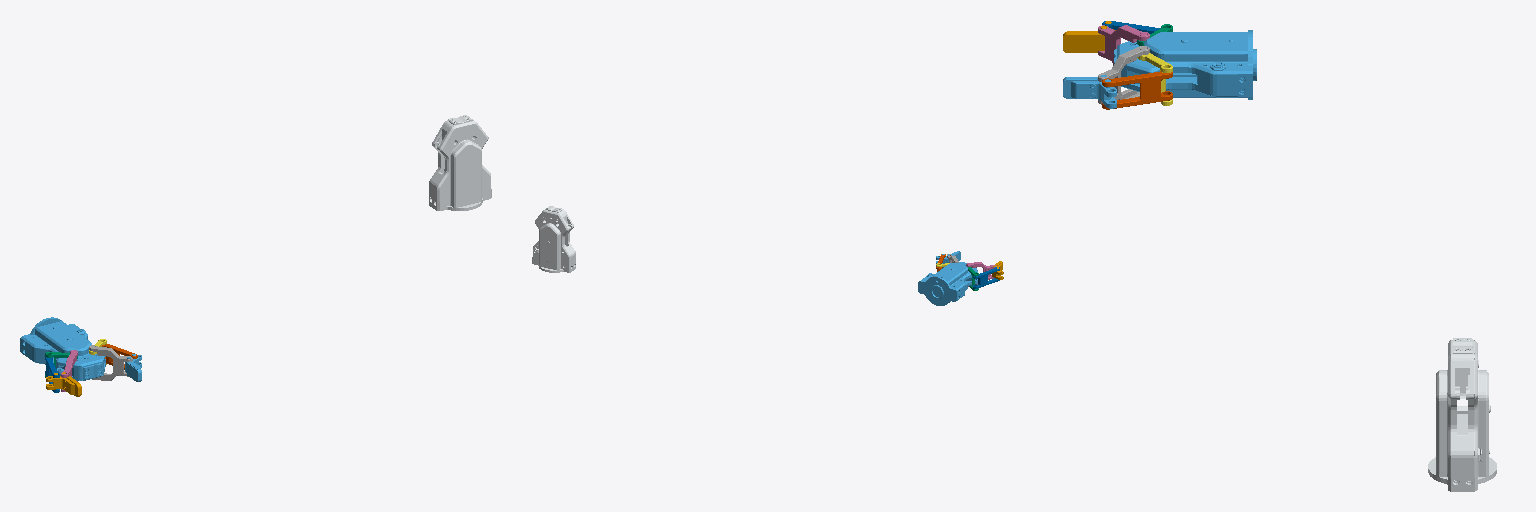
URDF robot description (fr5_ag95):
<?xml version="1.0" encoding="utf-8"?>
<robot name="fr5_ag95">
  <link name="base_link">
    <inertial>
      <origin xyz="-0.00031896 -0.00029673 0.042463" rpy="0 0 0" />
      <mass value="1.6185" />
      <inertia ixx="0.0030836" ixy="1.5354E-05" ixz="-1.9315E-05" iyy="0.0030825" iyz="-1.7918E-05" izz="0.0045209" />
    </inertial>
    <visual>
      <origin xyz="0 0 0" rpy="0 0 0" />
      <geometry>
        <mesh filename="package://dcp_description/meshes/robot/fr5/base_link.STL" />
      </geometry>
      <material name="">
        <color rgba="0.89804 0.91765 0.92941 1" />
      </material>
    </visual>
    <collision>
      <origin xyz="0 0 0" rpy="0 0 0" />
      <geometry>
        <mesh filename="package://dcp_description/meshes/robot/fr5/base_link.STL" />
      </geometry>
    </collision>
  </link>
  <joint name="j1" type="revolute">
    <origin xyz="0 0 0" rpy="0 0 0" />
    <parent link="base_link" />
    <child link="shoulder_link" />
    <axis xyz="0 0 1" />
    <limit lower="-3.0543" upper="3.0543" effort="150" velocity="3.15" />
  </joint>
  <link name="shoulder_link">
    <inertial>
      <origin xyz="5.0029E-07 -0.0040922 0.14629" rpy="0 0 0" />
      <mass value="4.3771" />
      <inertia ixx="0.010731" ixy="-8.0587E-09" ixz="-3.6773E-08" iyy="0.010408" iyz="0.00012853" izz="0.0081793" />
    </inertial>
    <visual>
      <origin xyz="0 0 0" rpy="0 0 0" />
      <geometry>
        <mesh filename="package://dcp_description/meshes/robot/fr5/shoulder_link.STL" />
      </geometry>
      <material name="">
        <color rgba="0.89804 0.91765 0.92941 1" />
      </material>
    </visual>
    <collision>
      <origin xyz="0 0 0" rpy="0 0 0" />
      <geometry>
        <mesh filename="package://dcp_description/meshes/robot/fr5/shoulder_link.STL" />
      </geometry>
    </collision>
  </link>
  <joint name="j2" type="revolute">
    <origin xyz="0 0 0.152" rpy="1.5708 0 0" />
    <parent link="shoulder_link" />
    <child link="upperarm_link" />
    <axis xyz="0 0 1" />
    <limit lower="-4.6251" upper="1.4835" effort="150" velocity="3.15" />
  </joint>
  <link name="upperarm_link">
    <inertial>
      <origin xyz="-0.2125 -5.7643E-09 0.1346" rpy="0 0 0" />
      <mass value="14.458" />
      <inertia ixx="0.028392" ixy="-1.337E-07" ixz="-3.9895E-09" iyy="0.4559" iyz="4.214E-08" izz="0.44974" />
    </inertial>
    <visual>
      <origin xyz="0 0 0" rpy="0 0 0" />
      <geometry>
        <mesh filename="package://dcp_description/meshes/robot/fr5/upperarm_link.STL" />
      </geometry>
      <material name="">
        <color rgba="0.89804 0.91765 0.92941 1" />
      </material>
    </visual>
    <collision>
      <origin xyz="0 0 0" rpy="0 0 0" />
      <geometry>
        <mesh filename="package://dcp_description/meshes/robot/fr5/upperarm_link.STL" />
      </geometry>
    </collision>
  </link>
  <joint name="j3" type="revolute">
    <origin xyz="-0.425 0 0" rpy="0 0 0" />
    <parent link="upperarm_link" />
    <child link="forearm_link" />
    <axis xyz="0 0 1" />
    <limit lower="-2.8274" upper="2.8274" effort="150" velocity="3.15" />
  </joint>
  <link name="forearm_link">
    <inertial>
      <origin xyz="-0.18793 -8.4503E-07 0.0066357" rpy="0 0 0" />
      <mass value="7.6737" />
      <inertia ixx="0.0085096" ixy="2.1613E-06" ixz="-0.0068678" iyy="0.16971" iyz="3.7086E-08" izz="0.16854" />
    </inertial>
    <visual>
      <origin xyz="0 0 0" rpy="0 0 0" />
      <geometry>
        <mesh filename="package://dcp_description/meshes/robot/fr5/forearm_link.STL" />
      </geometry>
      <material name="">
        <color rgba="0.89804 0.91765 0.92941 1" />
      </material>
    </visual>
    <collision>
      <origin xyz="0 0 0" rpy="0 0 0" />
      <geometry>
        <mesh filename="package://dcp_description/meshes/robot/fr5/forearm_link.STL" />
      </geometry>
    </collision>
  </link>
  <joint name="j4" type="revolute">
    <origin xyz="-0.39501 0 0" rpy="0 0 0" />
    <parent  link="forearm_link" />
    <child link="wrist1_link" />
    <axis xyz="0 0 1" />
    <limit lower="-4.6251" upper="1.4835" effort="28" velocity="3.2" />
  </joint>
  <link name="wrist1_link">
    <inertial>
      <origin xyz="4.98E-07 -0.003754 0.097155" rpy="0 0 0" />
      <mass value="1.6266" />
      <inertia ixx="0.00216" ixy="4.888E-09" ixz="3.1528E-08" iyy="0.0015455" iyz="3.7678E-05" izz="0.0019902" />
    </inertial>
    <visual>
      <origin xyz="0 0 0" rpy="0 0 0" />
      <geometry>
        <mesh filename="package://dcp_description/meshes/robot/fr5/wrist1_link.STL" />
      </geometry>
      <material name="">
        <color rgba="0.89804 0.91765 0.92941 1" />
      </material>
    </visual>
    <collision>
      <origin xyz="0 0 0" rpy="0 0 0" />
      <geometry>
        <mesh filename="package://dcp_description/meshes/robot/fr5/wrist1_link.STL" />
      </geometry>
    </collision>
  </link>
  <joint name="j5" type="revolute">
    <origin xyz="0 0 0.1021" rpy="1.5708 0 0" />
    <parent link="wrist1_link" />
    <child link="wrist2_link" />
    <axis xyz="0 0 1" />
    <limit lower="-3.0543" upper="3.0543" effort="28" velocity="3.2" />
  </joint>
  <link
    name="wrist2_link">
    <inertial>
      <origin xyz="-4.5588E-07 0.0038617 0.098257" rpy="0 0 0" />
      <mass value="1.5812" />
      <inertia ixx="0.0020612" ixy="8.7064E-09" ixz="-3.4742E-08" iyy="0.0014477" iyz="-2.8534E-05" izz="0.0019573" />
    </inertial>
    <visual>
      <origin xyz="0 0 0" rpy="0 0 0" />
      <geometry>
        <mesh filename="package://dcp_description/meshes/robot/fr5/wrist2_link.STL" />
      </geometry>
      <material name="">
        <color rgba="0.89804 0.91765 0.92941 1" />
      </material>
    </visual>
    <collision>
      <origins xyz="0 0 0" rpy="0 0 0" />
      <geometry>
        <mesh filename="package://dcp_description/meshes/robot/fr5/wrist2_link.STL" />
      </geometry>
    </collision>
  </link>
  <joint name="j6" type="revolute">
    <origin xyz="0 0 0.102" rpy="-1.5708 0 0" />
    <parent link="wrist2_link" />
    <child link="wrist3_link" />
    <axis xyz="0 0 1" />
    <limit lower="-3.0543" upper="3.0543" effort="28" velocity="3.2" />
  </joint>
  <link name="wrist3_link">
    <inertial>
      <origin xyz="7.7496E-05 1.7751E-05 0.076122" rpy="0 0 0" />
      <mass value="0.52542" />
      <inertia ixx="0.00027721" ixy="-1.8677E-09" ixz="-1.188E-07" iyy="0.00027839" iyz="2.2607E-07" izz="0.00041605" />
    </inertial>
    <visual>
      <origin xyz="0 0 0" rpy="0 0 0" />
      <geometry>
        <mesh filename="package://dcp_description/meshes/robot/fr5/wrist3_link.STL" />
      </geometry>
      <material name="">
        <color rgba="0.89804 0.91765 0.92941 1" />
      </material>
    </visual>
    <collision>
      <origin xyz="0 0 0" rpy="0 0 0" />
      <geometry>
        <mesh filename="package://dcp_description/meshes/robot/fr5/wrist3_link.STL" />
      </geometry>
    </collision>
  </link>
  <joint name="wrist3-flange" type="fixed">
    <parent link="wrist3_link"/>
    <child link="flange"/>
    <origin rpy="0 -1.5707963267948966 -1.5707963267948966" xyz="0 0 0.1"/>
  </joint>
  <link name="flange"/>
  <joint name="flange-tool0" type="fixed">
    <origin rpy="1.5707963267948966 0 1.5707963267948966" xyz="0 0 0"/>
    <parent link="flange"/>
    <child link="tool0"/>
  </joint>
  <link name="tool0"/>

  <!-- Gripper -->
  <joint name="gripper_base_joint" type="fixed">
    <parent link="tool0"/>
    <child link="gripper_base_link"/>
    <origin rpy="0 0 0" xyz="0 0 0"/>
  </joint>
  <link name="gripper_base_link">
    <visual>
      <geometry>
        <mesh filename="package://dcp_description/meshes/gripper/ag95/base_link.STL"/>
      </geometry>
    </visual>
    <collision>
      <geometry>
        <mesh filename="package://dcp_description/meshes/gripper/ag95/base_link.STL"/>
      </geometry>
    </collision>
    <inertial>
      <mass value="0.83416" />
      <origin xyz="0.0 0.0 0.0" />
      <inertia ixx = "0.0013016" ixy = "-6.9374e-07" ixz = "5.9848e-07"
               iyx = "0.000000" iyy = "0.00049972" iyz = "2.0244E-07"
               izx = "0.000000" izy = "0.000000" izz = "0.001498" />
    </inertial>
  </link>
  <joint name="gripper_finger1_joint" type="revolute">
    <parent link="gripper_base_link"/>
    <child link="gripper_finger1_knuckle_link"/>
    <axis xyz="0 -1 0"/>
    <origin rpy="0.0 0.0 3.14" xyz="-0.016 0 0.10586"/>
    <limit lower="0.0" upper="0.6524" velocity="2.0" effort="1000"/>
  </joint>
  <joint name="gripper_finger2_joint" type="revolute">
    <parent link="gripper_base_link"/>
    <child link="gripper_finger2_knuckle_link"/>
    <axis xyz="0 -1 0"/>
    <origin rpy="0.0 0.0 0.0" xyz="0.016  0 0.10586 "/>
    <limit lower="-3.14" upper="3.14" velocity="100.0" effort="1000"/>
    <mimic joint="gripper_finger1_joint"/>
  </joint>
  <link name="gripper_finger1_knuckle_link">
    <visual>
      <geometry>
          <mesh filename="package://dcp_description/meshes/gripper/ag95/crank_Link.STL"/>
      </geometry>
    </visual>
    <collision>
      <geometry>
          <mesh filename="package://dcp_description/meshes/gripper/ag95/crank_Link.STL"/>
      </geometry>
    </collision>
    <inertial>
      <mass value="0.011111" />
      <origin xyz="0.0 0.0 0.0" />
      <inertia ixx = "3.88172e-06" ixy = "-2.29456e-13" ixz = "8.33e-07"
               iyx = "0.000000" iyy = "1.92174e-06" iyz = "2.04435e-13"
               izx = "0.000000" izy = "0.000000" izz = "4.32374e-06" />
    </inertial>
  </link>
  <link name="gripper_finger2_knuckle_link">
    <visual>
      <geometry>
          <mesh filename="package://dcp_description/meshes/gripper/ag95/crank_Link.STL"/>
      </geometry>
    </visual>
    <collision>
      <geometry>
          <mesh filename="package://dcp_description/meshes/gripper/ag95/crank_Link.STL"/>
      </geometry>
    </collision>
    <inertial>
      <mass value="0.011111" />
      <origin xyz="0.0 0.0 0.0" />
      <inertia ixx = "3.88172e-06" ixy = "-2.29456e-13" ixz = "8.33e-07"
               iyx = "0.000000" iyy = "1.92174e-06" iyz = "2.04435e-13"
               izx = "0.000000" izy = "0.000000" izz = "4.32374e-06" />
    </inertial>
  </link>
  <joint name="gripper_finger1_finger_joint" type="continuous">
    <parent link="gripper_finger1_knuckle_link"/>
    <child link="gripper_finger1_finger_link"/>
    <axis xyz="0 -1 0"/>
    <origin xyz="0.0292080077784 0.0 -0.0227132622407" rpy="0 0 0" />
    <limit lower="-3.14" upper="3.14" velocity="100.0" effort="0.1"/>
    <mimic joint="gripper_finger1_joint" multiplier="0.4563942" offset="0"/>
  </joint>
  <joint name="gripper_finger2_finger_joint" type="continuous">
    <parent link="gripper_finger2_knuckle_link"/>
    <child link="gripper_finger2_finger_link"/>
    <axis xyz="0 -1 0"/>
    <origin xyz="0.0292080077784 0.0 -0.0227132622407" rpy="0 0 0" />
    <limit lower="-3.14" upper="3.14" velocity="100.0" effort="0.1"/>
    <mimic joint="gripper_finger1_joint" multiplier="0.4563942" offset="0"/>
  </joint>
  <link name="gripper_finger1_finger_link">
    <visual>
      <geometry>
          <mesh filename="package://dcp_description/meshes/gripper/ag95/rod_Link.STL"/>
      </geometry>
    </visual>
    <collision>
      <geometry>
          <mesh filename="package://dcp_description/meshes/gripper/ag95/rod_Link.STL"/>
      </geometry>
    </collision>
    <inertial>
      <mass value="0.0222871" />
      <origin xyz="0.0 0.0 0.0" />
      <inertia ixx = "8.72836e-06" ixy = "7.0843e-15" ixz = "-2.18833e-06"
               iyx = "-0.000002" iyy = "7.26157e-06" iyz = "7.6579e-15"
               izx = "0.000000" izy = "0.000000" izz = "3.3425e-06" />
    </inertial>
  </link>
  <link name="gripper_finger2_finger_link">
    <visual>
        <geometry>
            <mesh filename="package://dcp_description/meshes/gripper/ag95/rod_Link.STL"/>
        </geometry>
    </visual>
    <collision>
      <geometry>
          <mesh filename="package://dcp_description/meshes/gripper/ag95/rod_Link.STL"/>
      </geometry>
    </collision>
    <inertial>
      <mass value="0.0222871" />
      <origin xyz="0.0 0.0 0.0" />
      <inertia ixx = "8.72836e-06" ixy = "7.0843e-15" ixz = "-2.18833e-06"
               iyx = "-0.000002" iyy = "7.26157e-06" iyz = "7.6579e-15"
               izx = "0.000000" izy = "0.000000" izz = "3.3425e-06" />
    </inertial>
  </link>
  <joint name="gripper_finger1_inner_knuckle_joint" type="continuous">
    <parent link="gripper_base_link"/>
    <child link="gripper_finger1_inner_knuckle_link"/>
    <axis xyz="0 -1 0"/>
    <origin rpy="0.0 0.0 3.14" xyz="-0.016 0 0.10586"/>
    <limit lower="-3.14" upper="3.14" velocity="100.0" effort="0.1"/>
    <mimic joint="gripper_finger1_joint" multiplier="1.49462955"  offset="0"/>
  </joint>
  <joint name="gripper_finger2_inner_knuckle_joint" type="continuous">
    <parent link="gripper_base_link"/>
    <child link="gripper_finger2_inner_knuckle_link"/>
    <axis xyz="0 -1 0"/>
    <origin rpy="0.0 0.0 0.0" xyz="0.016 0 0.10586"/>
    <limit lower="-3.14" upper="3.14" velocity="100.0" effort="0.1"/>
    <mimic joint="gripper_finger1_joint" multiplier="1.49462955"  offset="0"/>
  </joint>
  <link name="gripper_finger1_inner_knuckle_link">
    <visual>
      <geometry>
          <mesh filename="package://dcp_description/meshes/gripper/ag95/proximal_phalanx_Link.STL"/>
      </geometry>
    </visual>
    <collision>
      <geometry>
          <mesh filename="package://dcp_description/meshes/gripper/ag95/proximal_phalanx_Link.STL"/>
      </geometry>
    </collision>
    <inertial>
      <mass value="0.0318004" />
      <origin xyz="0.0 0.0 0.0" />
      <inertia ixx = "1.39848e-05" ixy = "-9.54763e-15" ixz = "-5.01422e-06"
               iyx = "0.000000" iyy = "1.04943e-05" iyz = "8.94585e-16"
               izx = "0.000000" izy = "0.000000" izz = "1.36183e-05" />
    </inertial>
  </link>
  <link name="gripper_finger2_inner_knuckle_link">
    <visual>
      <geometry>
          <mesh filename="package://dcp_description/meshes/gripper/ag95/proximal_phalanx_Link.STL"/>
      </geometry>
    </visual>
    <collision>
      <geometry>
          <mesh filename="package://dcp_description/meshes/gripper/ag95/proximal_phalanx_Link.STL"/>
      </geometry>
    </collision>
    <inertial>
      <mass value="0.0318004" />
      <origin xyz="0.0 0.0 0.0" />
      <inertia ixx = "1.39848e-05" ixy = "-9.54763e-15" ixz = "-5.01422e-06"
               iyx = "0.000000" iyy = "1.04943e-05" iyz = "8.94585e-16"
               izx = "0.000000" izy = "0.000000" izz = "1.36183e-05" />
    </inertial>
  </link>
  <joint name="gripper_finger1_finger_tip_joint" type="continuous">
    <parent link="gripper_finger1_inner_knuckle_link"/>
    <child link="gripper_finger1_finger_tip_link"/>
      <axis xyz="0 1 0"/>
      <origin xyz="0.0394969463769 0.0 0.0382752038125 " rpy="0.0 0.0 0.0"/>
      <limit lower="-3.14" upper="3.14" velocity="100.0" effort="0.1"/>
      <mimic joint="gripper_finger1_joint" multiplier="1.49462955"/>
  </joint>
  <joint name="gripper_finger2_finger_tip_joint" type="continuous">
    <parent link="gripper_finger2_inner_knuckle_link"/>
    <child link="gripper_finger2_finger_tip_link"/>
    <axis xyz="0 1 0"/>
    <origin rpy="0.0 0.0 0.0" xyz="0.0394969463769  0.0 0.0382752038125  "/>
    <limit lower="-3.14" upper="3.14" velocity="100.0" effort="0.1"/>
    <mimic joint="gripper_finger1_joint" multiplier="1.49462955"/>
  </joint>
  <link name="gripper_finger1_finger_tip_link">
    <visual>
      <geometry>
          <mesh filename="package://dcp_description/meshes/gripper/ag95/distal_phalanx_Link.STL"/>
      </geometry>
    </visual>
    <collision>
      <geometry>
          <mesh filename="package://dcp_description/meshes/gripper/ag95/distal_phalanx_Link.STL"/>
      </geometry>
    </collision>
    <inertial>
      <mass value="0.0124305" />
      <origin xyz="0.0 0.0 0.0" />
      <inertia ixx = "2.84217e-06" ixy = "-2.48048e-15" ixz = "8.24539e-07"
               iyx = "0.000000" iyy = "3.03961e-06" iyz = "2.16427e-13"
               izx = "0.000000" izy = "0.000000" izz = "1.11815e-06" />
    </inertial>
  </link> 
  <link name="gripper_finger2_finger_tip_link">
    <visual>
      <geometry>
          <mesh filename="package://dcp_description/meshes/gripper/ag95/distal_phalanx_Link.STL"/>
      </geometry>
    </visual>
    <collision>
      <geometry>
          <mesh filename="package://dcp_description/meshes/gripper/ag95/distal_phalanx_Link.STL"/>
      </geometry>
    </collision>
    <inertial>
      <mass value="0.0124305" />
      <origin xyz="0.0 0.0 0.0" />
      <inertia ixx = "2.84217e-06" ixy = "-2.48048e-15" ixz = "8.24539e-07"
               iyx = "0.000000" iyy = "3.03961e-06" iyz = "2.16427e-13"
               izx = "0.000000" izy = "0.000000" izz = "1.11815e-06" />
    </inertial>
  </link>
  <joint name="grasp_joint" type="fixed">
    <origin rpy="0 0 0.0" xyz="0 0 0.17"/>
    <axis xyz="0 0 1"/>
    <parent link="gripper_base_link"/>
    <child link="grasp_frame"/>
  </joint>
  <link name="grasp_frame">
    <inertial>
      <!-- Dummy inertial parameters to avoid link lumping-->
      <mass value="0.01"/>
      <inertia ixx="0.0001" ixy="0.0" ixz="0.0" iyy="0.0001" iyz="0.0" izz="0.0001"/>
      <origin rpy="0 0 0" xyz="0 0 0"/>
    </inertial>
  </link>
  
</robot>

--- What the picture shows (computed from the rendered views, not written in the file) ---
The picture shows the robot from 3 angles, left to right: view 1: azimuth 30°, elevation 25°; view 2: azimuth 150°, elevation 25°; view 3: azimuth 270°, elevation 25°; orthographic projection.
Model fr5_ag95 with 19 links and 18 joints (8 revolute, 6 continuous, 4 fixed), rooted at base_link, posed all joints at 0.
Visible links, largest first — view 1: base_link, gripper_base_link, gripper_finger2_inner_knuckle_link; view 2: base_link, gripper_base_link; view 3: base_link, gripper_base_link, gripper_finger2_finger_link, gripper_finger2_finger_tip_link, gripper_finger1_finger_tip_link, gripper_finger1_inner_knuckle_link, gripper_finger2_inner_knuckle_link.
Link boxes in pixels (x1=…): base_link: x1=429, y1=115, x2=491, y2=210; gripper_base_link: x1=20, y1=317, x2=105, y2=380; gripper_finger2_inner_knuckle_link: x1=89, y1=345, x2=132, y2=380; base_link: x1=532, y1=206, x2=575, y2=272; gripper_base_link: x1=918, y1=262, x2=977, y2=305; base_link: x1=1428, y1=338, x2=1496, y2=491; gripper_base_link: x1=1114, y1=30, x2=1256, y2=99; gripper_finger2_finger_link: x1=1102, y1=71, x2=1172, y2=109; gripper_finger2_finger_tip_link: x1=1063, y1=75, x2=1116, y2=108; gripper_finger1_finger_tip_link: x1=1063, y1=21, x2=1115, y2=52; gripper_finger1_inner_knuckle_link: x1=1098, y1=25, x2=1149, y2=64; gripper_finger2_inner_knuckle_link: x1=1098, y1=46, x2=1149, y2=104.
Bounding box of the posed robot: 0.9482 × 0.4197 × 0.1382 m (x, y, z).
10 mesh visuals loaded from 12 distinct referenced files (5 binary STL); not drawn: 6 (reference not matched to a file when rendering).
